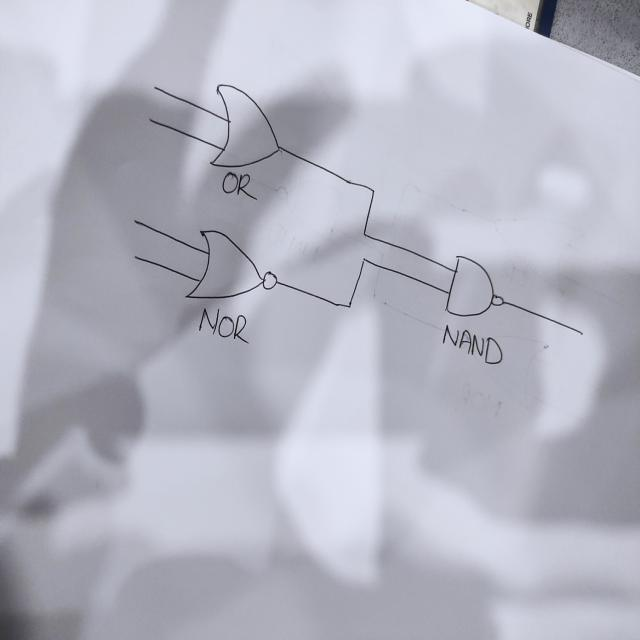junction: (368, 184, 377, 197), (360, 254, 368, 266), (360, 229, 367, 240), (345, 302, 352, 311)
terminal: (130, 214, 140, 228), (131, 251, 139, 263), (150, 81, 158, 92), (146, 114, 152, 124), (578, 329, 584, 337)
text: (441, 321, 503, 367), (197, 306, 250, 345), (220, 169, 257, 200)
